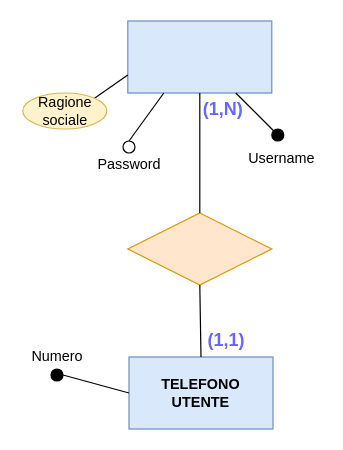
This 343x450 diagram has some shape labels left out. The centre of each missing label's shape, as x and y in pixels:
"Recapito utente" goes at [199,248].
"UTENTE" goes at [199,56].
